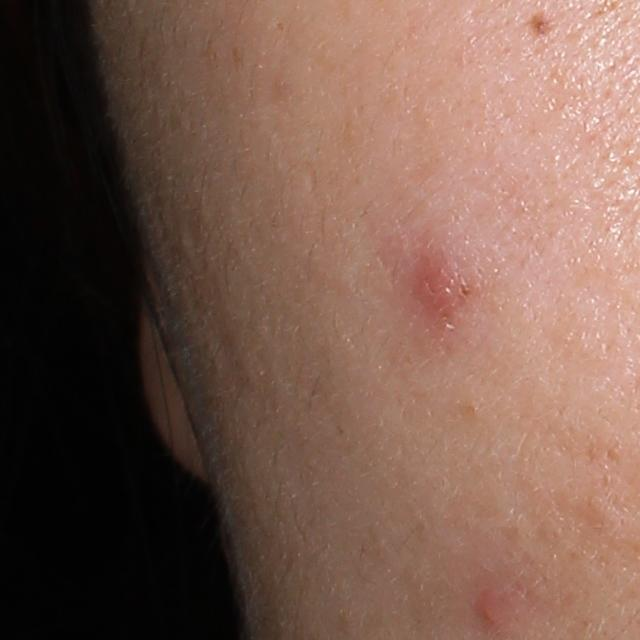nevus: (524, 9, 551, 38)
papule: (391, 219, 490, 358)
